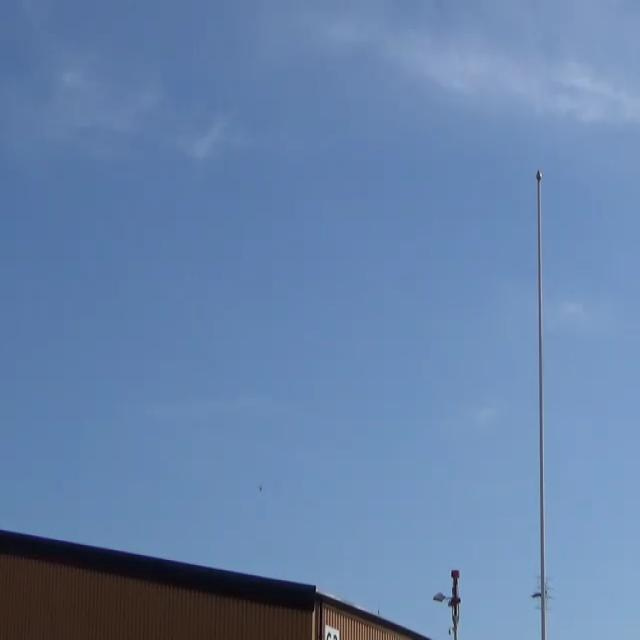Helicopter: (248, 475, 273, 501)
